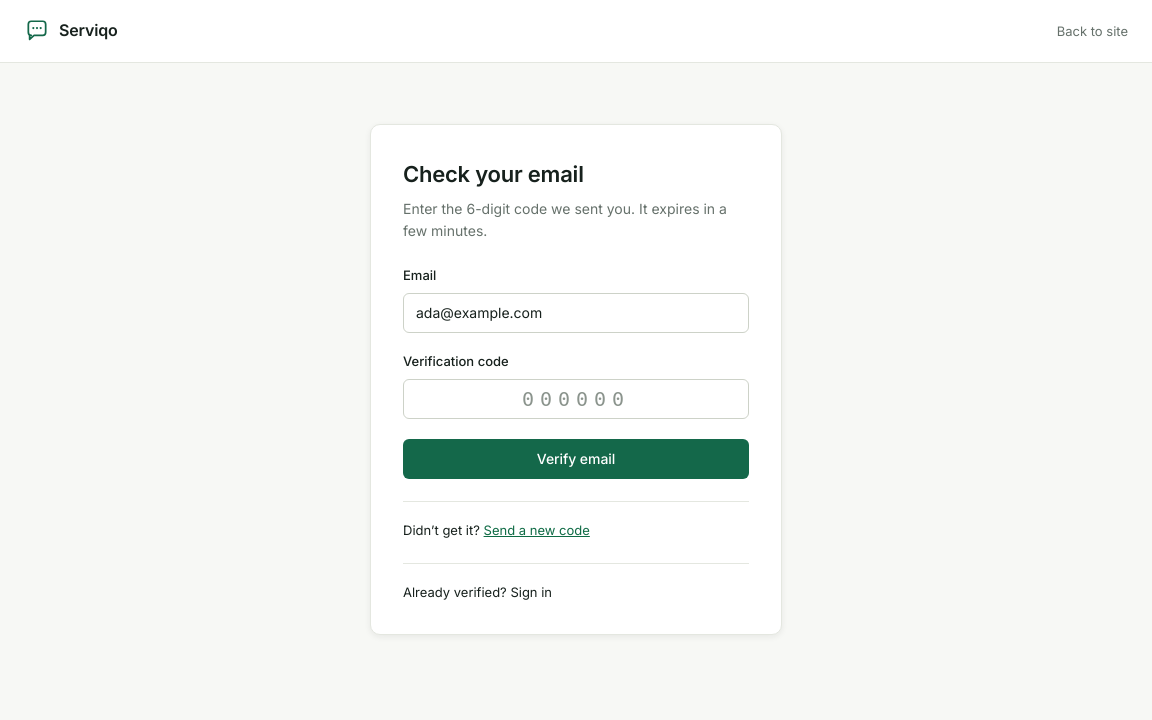
Test: verification › asks for a replacement code
Type "111111" into the field labelled "Verification code".
click(576, 399); type("111111")  # box left=403, top=379, right=749, bottom=419
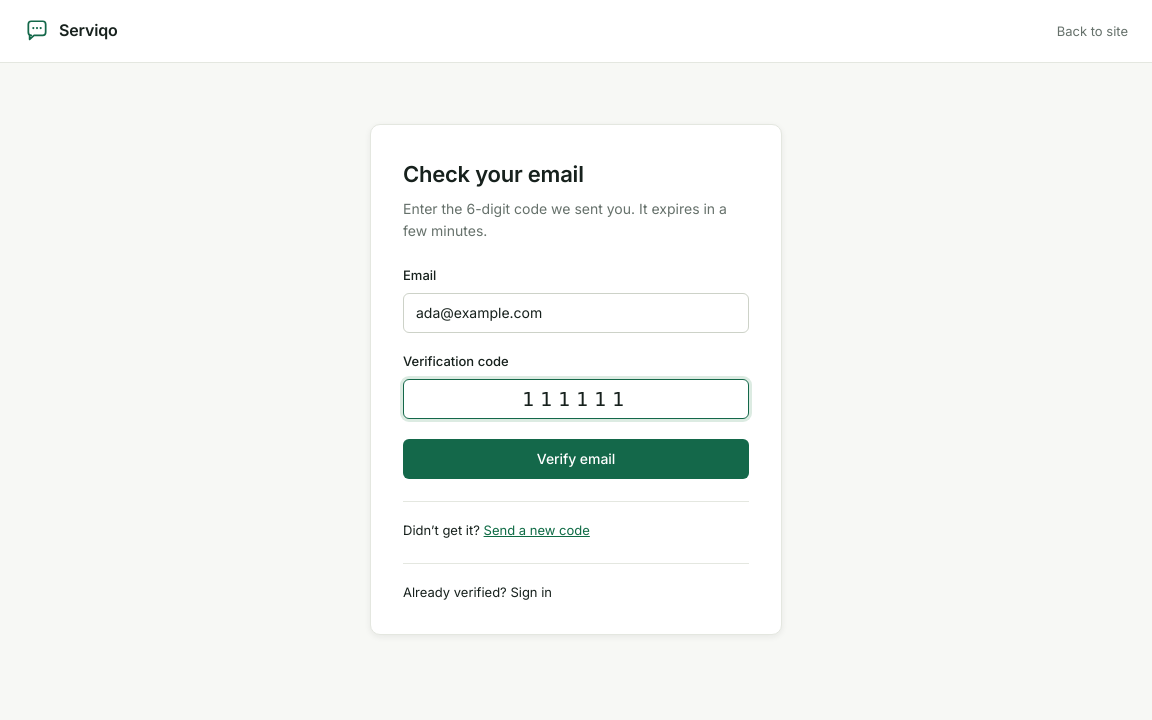
Click the button "Send a new code".
click(537, 530)  # box left=484, top=520, right=590, bottom=541
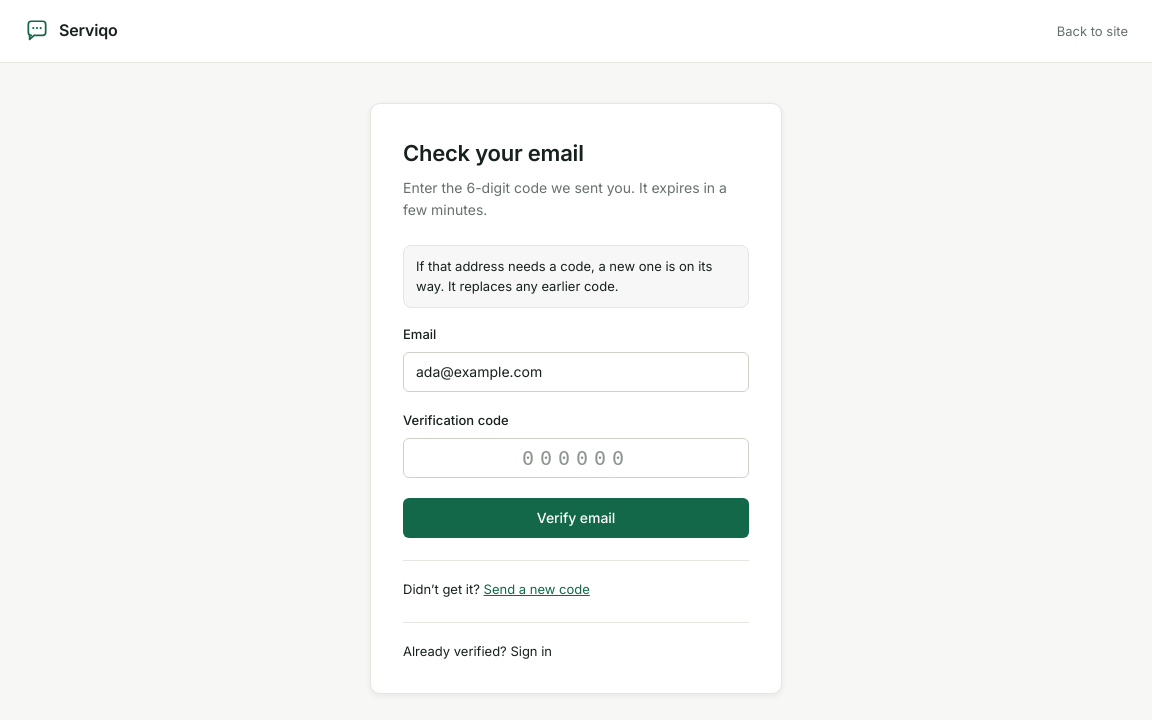
expect the message shows "If that address needs a code": met, box left=416, top=258, right=712, bottom=294
expect the field labelled "Verification code" is empty: met, box left=403, top=438, right=749, bottom=478
